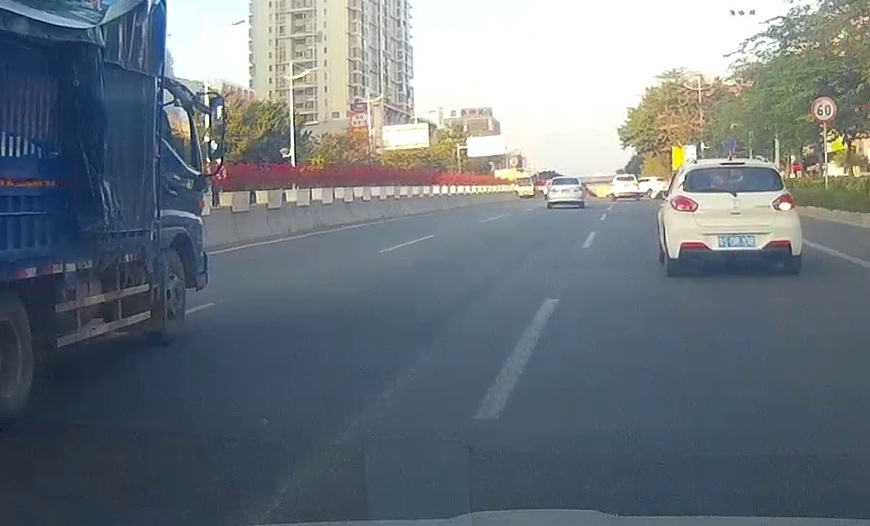L_light: (668, 194, 699, 212)
R_light: (771, 192, 796, 211)
T_light: (717, 235, 756, 249), (719, 162, 745, 166)
day-right: (664, 159, 802, 277)
